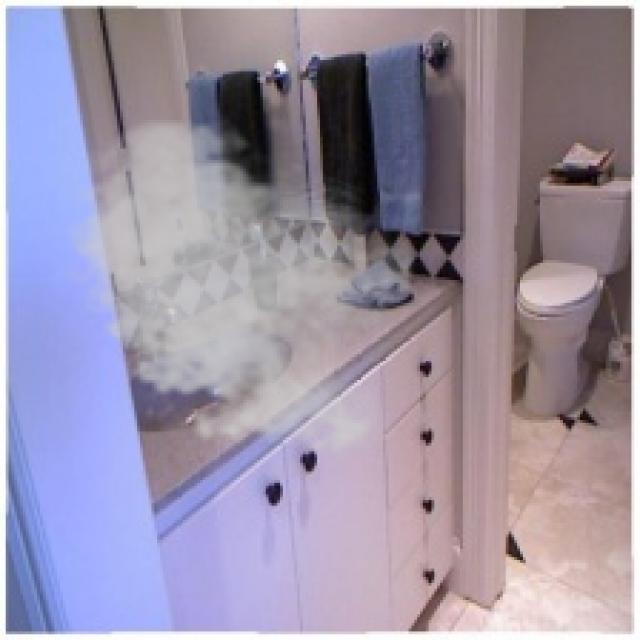Smoke: (57, 111, 414, 466)
